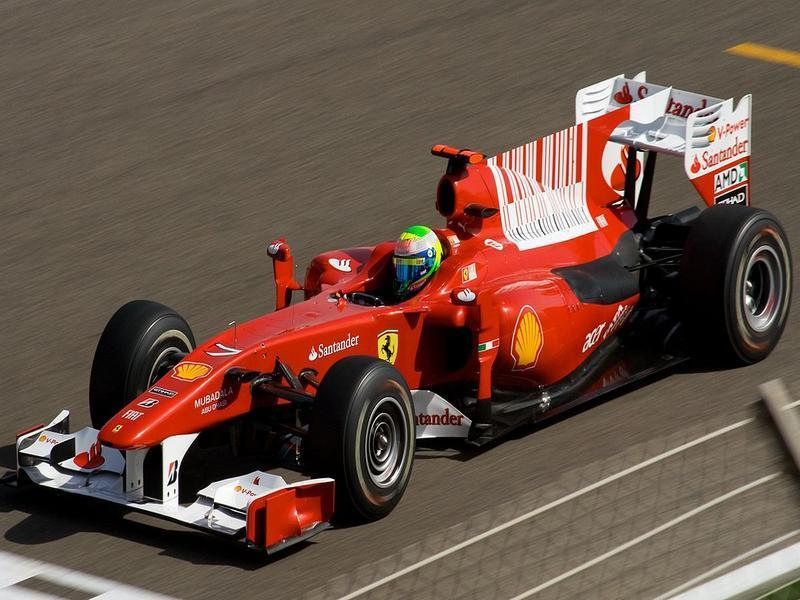f1: (29, 61, 800, 529)
